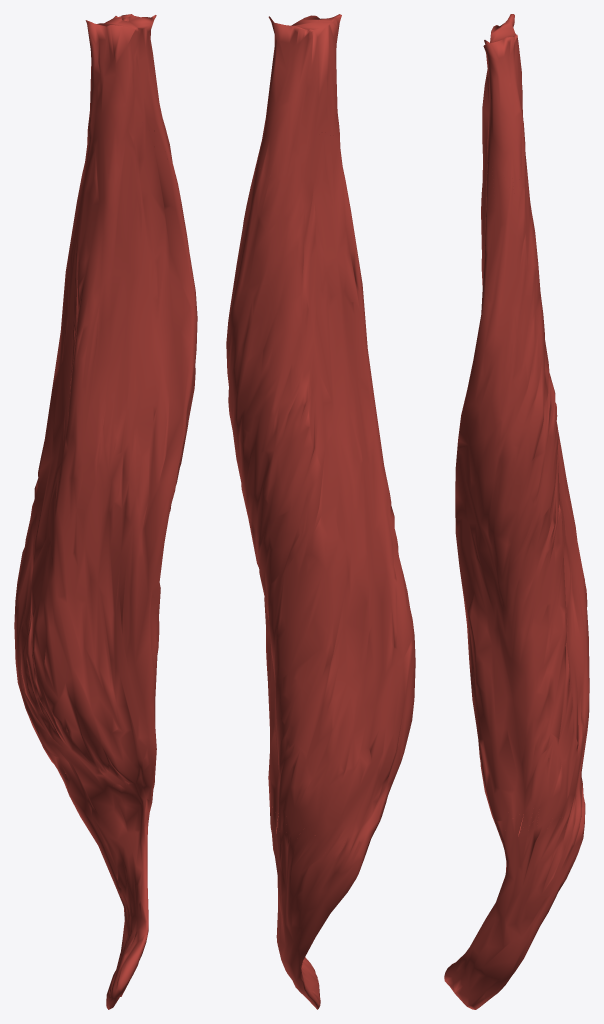
The model's file is musculos-semimembranosus-muscle-r.glb.
3 renders of one model, left to right at view 1: azimuth 30°, elevation 25°; view 2: azimuth 210°, elevation 25°; view 3: azimuth 270°, elevation 25°, orthographic. The views are drawn at different scales.
Parts seen in each view (by area): view 1: Semimembranosus muscle.r; view 2: Semimembranosus muscle.r; view 3: Semimembranosus muscle.r.
Boxes of the visible parts, box(x1,y1,x2,y2) form: Semimembranosus muscle.r: box(14, 14, 197, 1009); Semimembranosus muscle.r: box(226, 14, 415, 1009); Semimembranosus muscle.r: box(444, 14, 589, 1009).
Bounding box in the file's own units: 0.0637 × 0.4173 × 0.0551.
